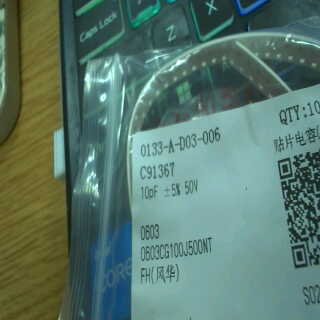10pF: (139, 182, 165, 200)
